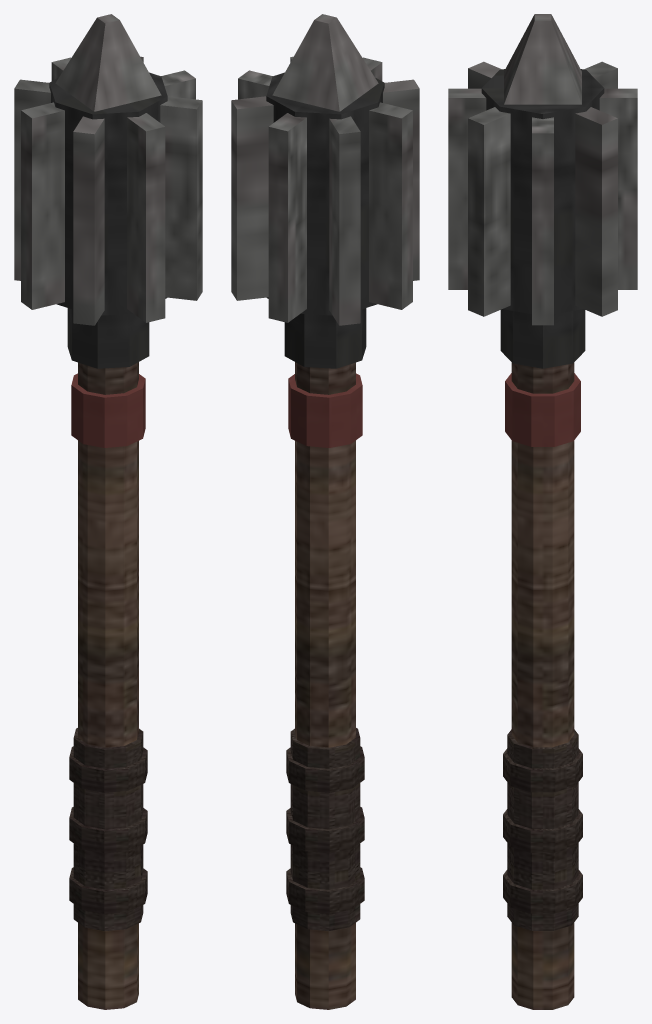
File: wpn_mace_starter.glb
The picture shows the model from 3 angles, left to right: view 1: azimuth 30°, elevation 25°; view 2: azimuth 150°, elevation 25°; view 3: azimuth 270°, elevation 25°; orthographic projection.
Parts seen in each view (by area): view 1: wpn_mace_starter; view 2: wpn_mace_starter; view 3: wpn_mace_starter.
Boxes of the visible parts, x1,y1,x2,y2 form: wpn_mace_starter: (14, 14, 202, 1009); wpn_mace_starter: (231, 14, 419, 1009); wpn_mace_starter: (448, 14, 637, 1009).
Bounding box in the file's own units: 0.17 × 0.97 × 0.17.
5 materials, 5 textured.
